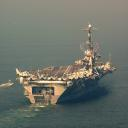Portanaves: (16, 23, 118, 107)
